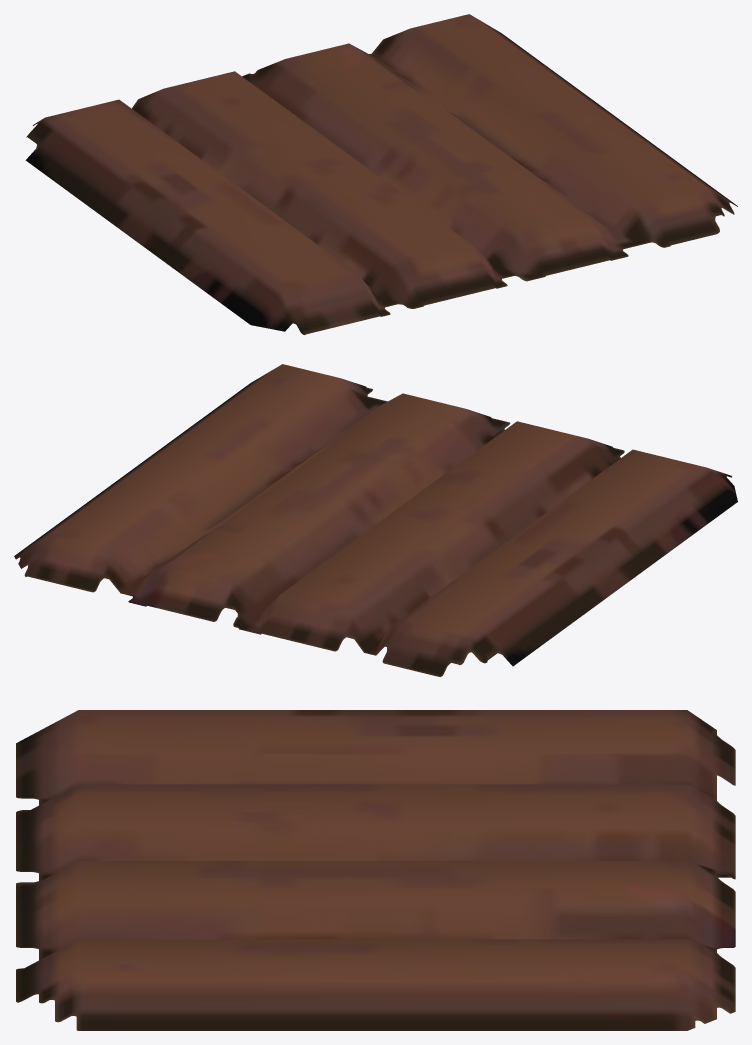
Rendered from plowed_01.fbx.
The picture shows the model from 3 angles, top to bottom: view 1: azimuth 30°, elevation 25°; view 2: azimuth 150°, elevation 25°; view 3: azimuth 270°, elevation 25°; orthographic projection. The views are drawn at different scales.
Parts seen in each view (by area): view 1: plowed_01; view 2: plowed_01; view 3: plowed_01.
Boxes of the visible parts, x1=… form: plowed_01: x1=25, y1=14, x2=737, y2=334; plowed_01: x1=14, y1=364, x2=737, y2=676; plowed_01: x1=16, y1=710, x2=735, y2=1030.
Bounding box in the file's own units: 99.1 × 5.24 × 99.1.
